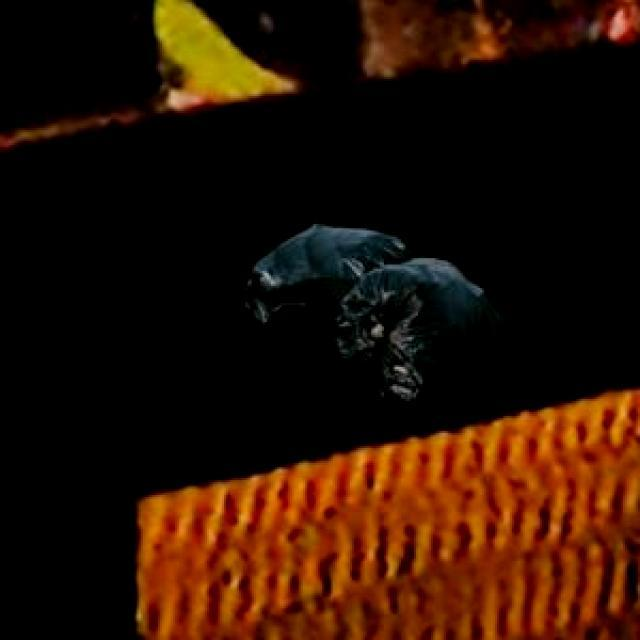Trashbag: (332, 251, 489, 404), (242, 218, 382, 320)
